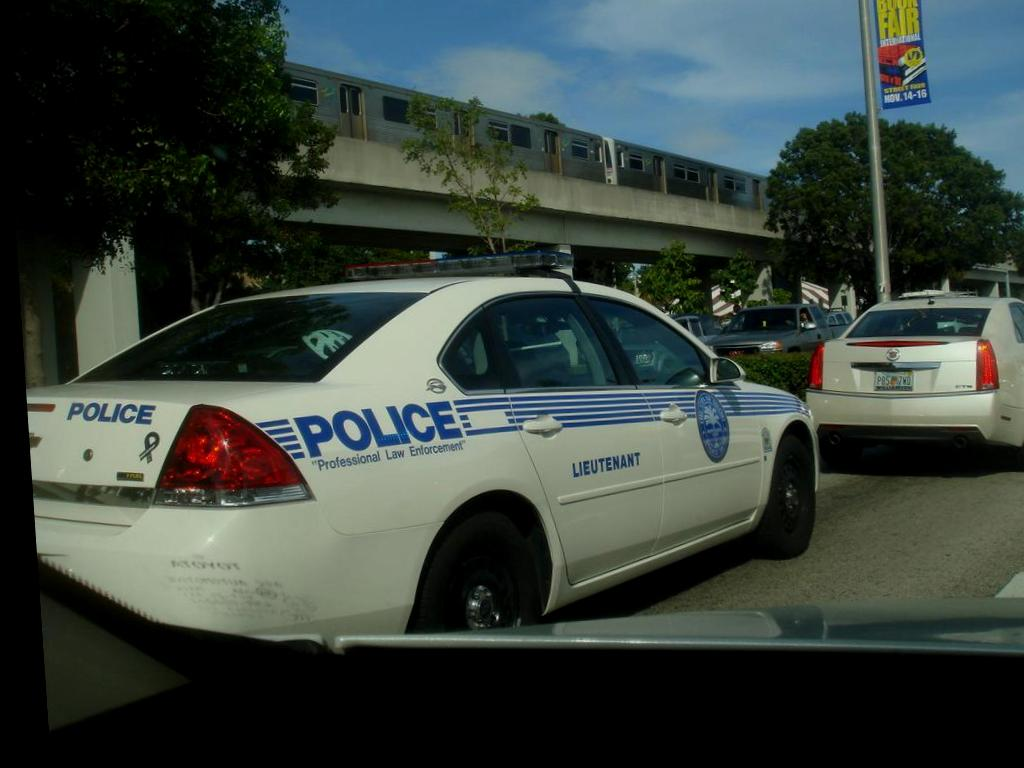License_Plate: (873, 366, 912, 391)
